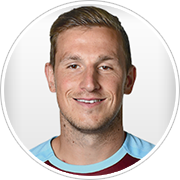face: (42, 41, 139, 125)
